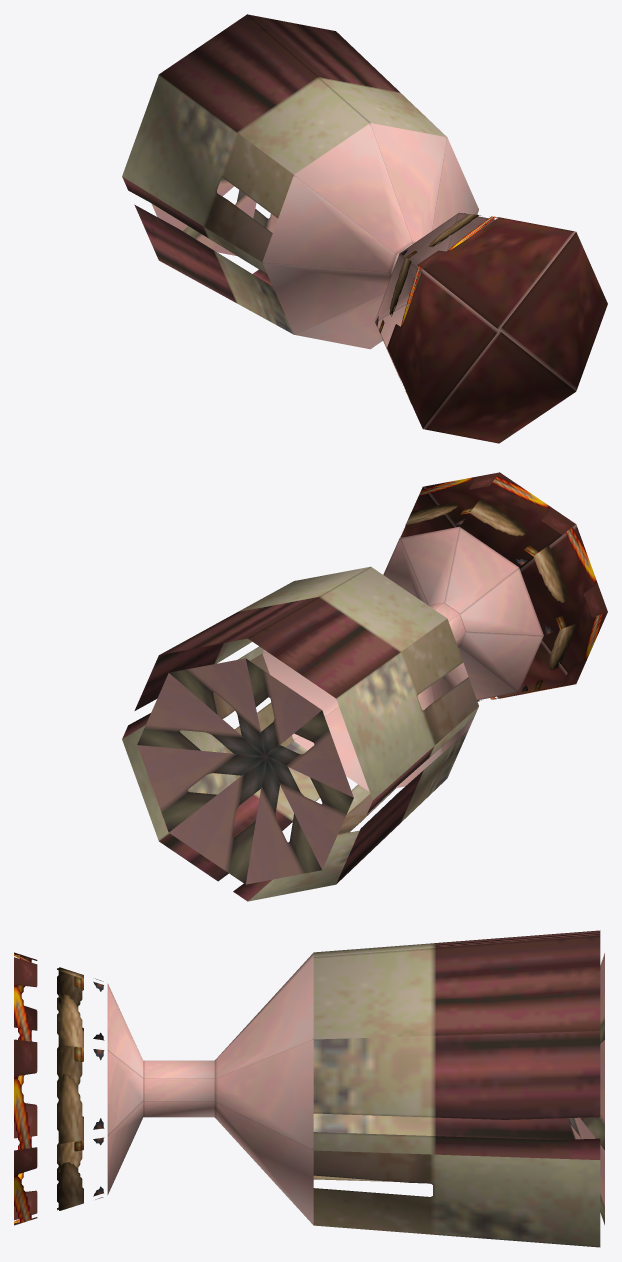
3 views of the same model, one above another, from view 1: azimuth 30°, elevation 25°; view 2: azimuth 150°, elevation 25°; view 3: azimuth 270°, elevation 25° (orthographic). The views are drawn at different scales.
Parts seen in each view (by area): view 1: T1L1M009_5; view 2: T1L1M009_5; view 3: T1L1M009_5.
Boxes of the visible parts, x1=… form: T1L1M009_5: x1=122, y1=14, x2=607, y2=443; T1L1M009_5: x1=122, y1=472, x2=607, y2=901; T1L1M009_5: x1=14, y1=930, x2=604, y2=1247.
Size of the model in its own units: 0.7939 by 0.4336 by 0.7627.
